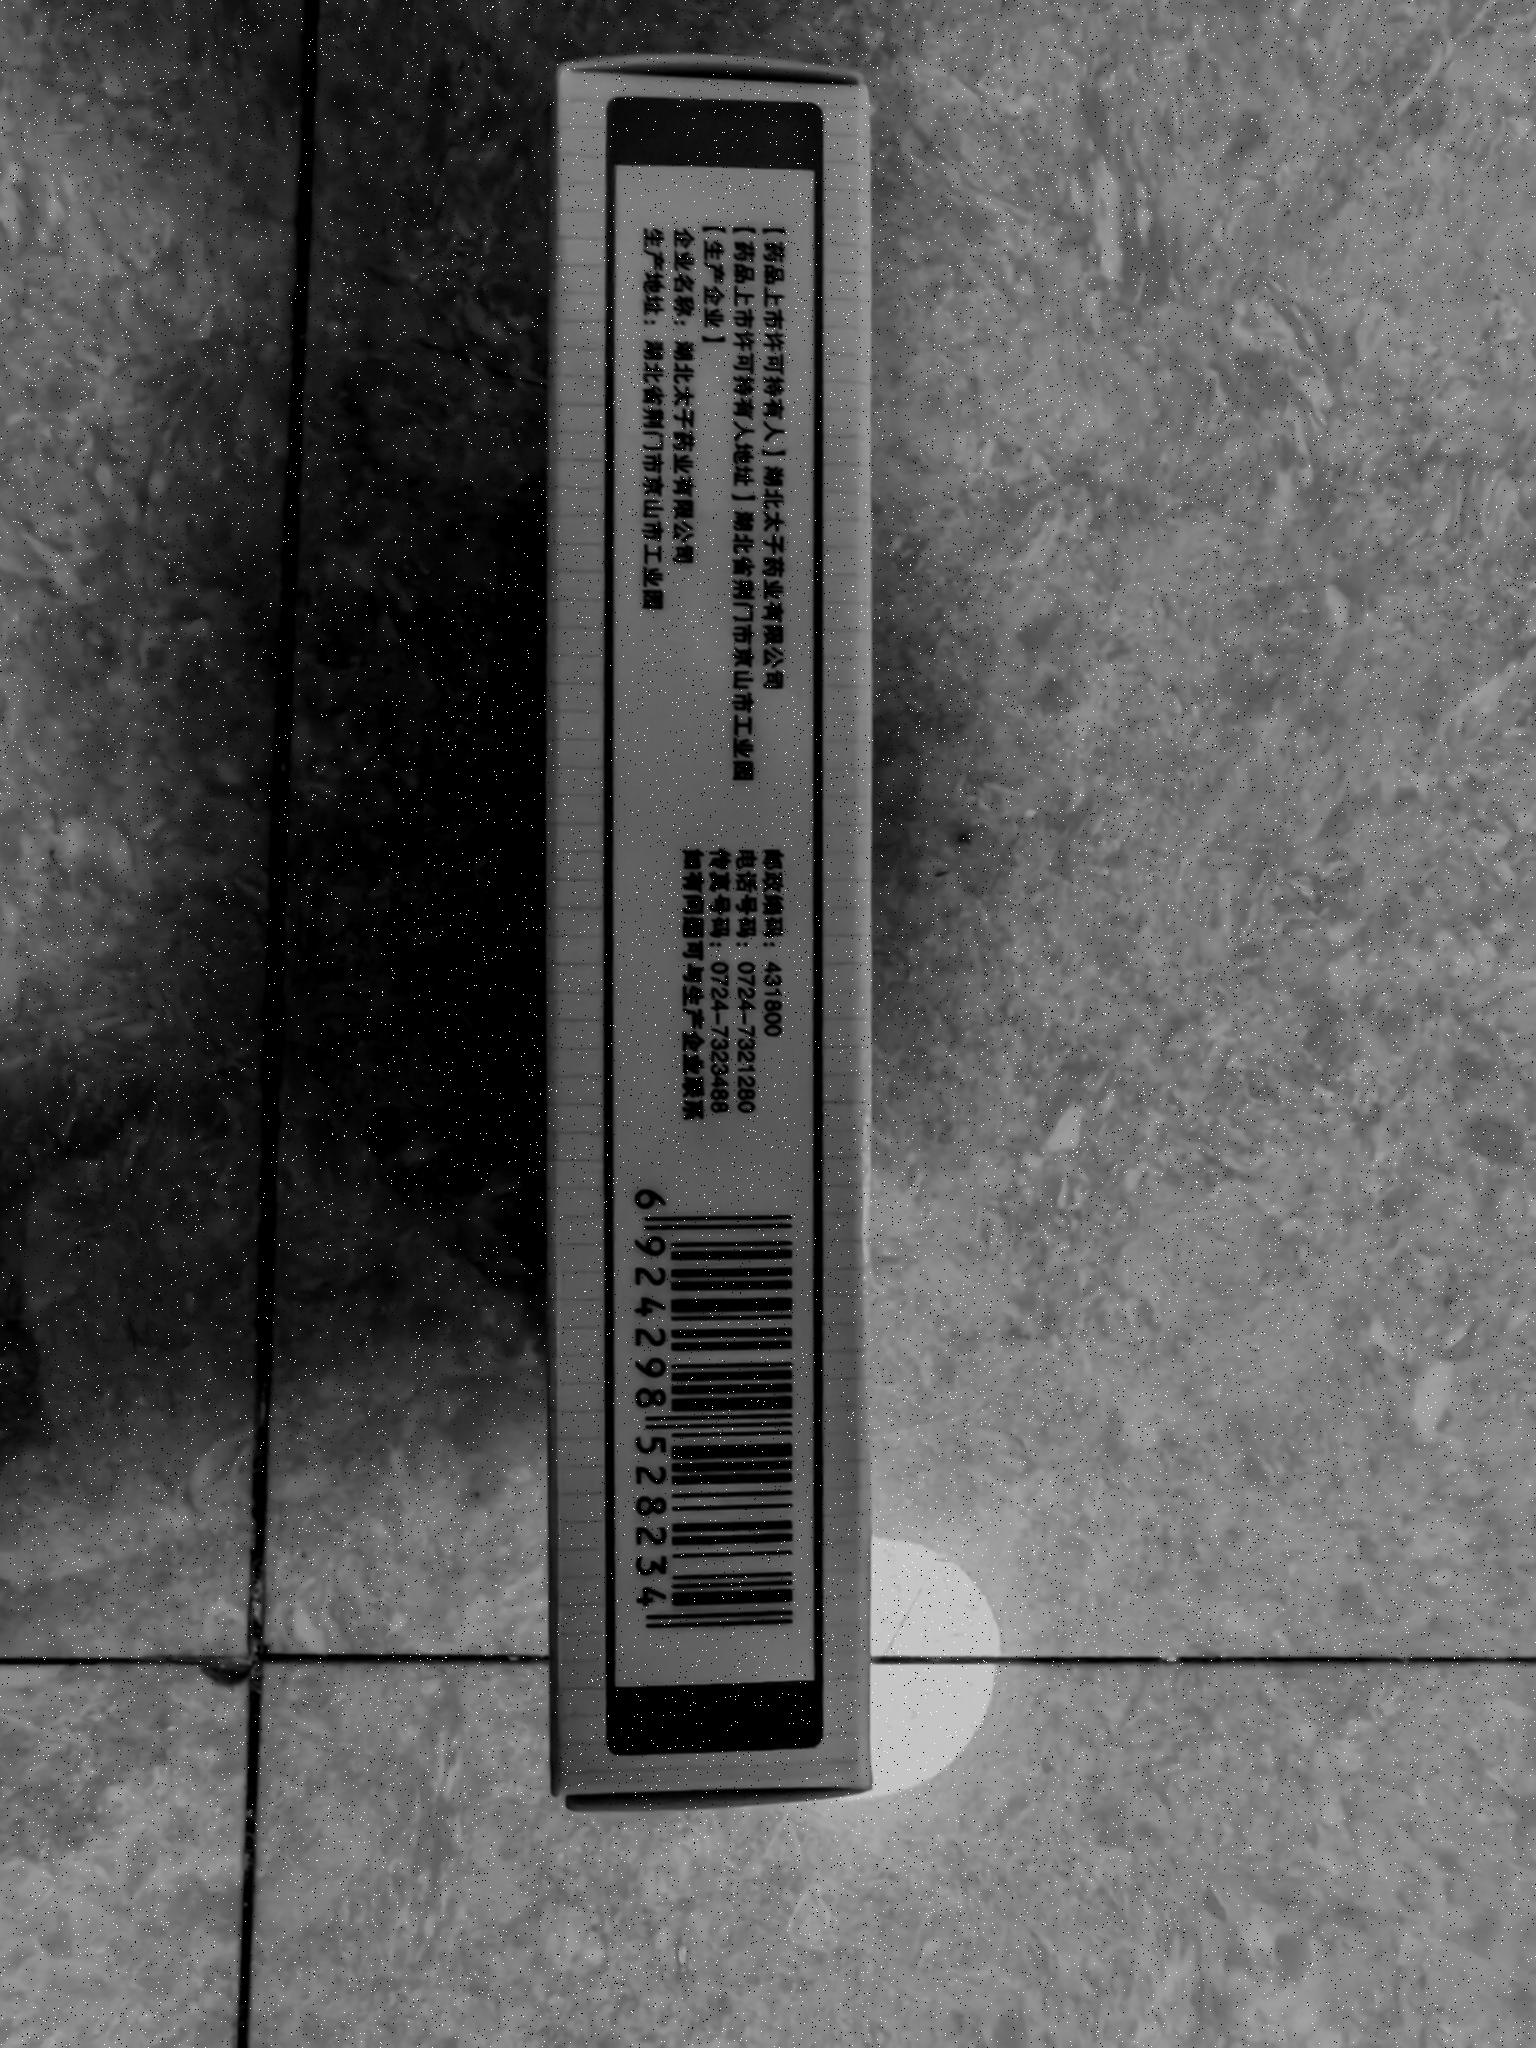Medicine5: (515, 43, 917, 1835)
